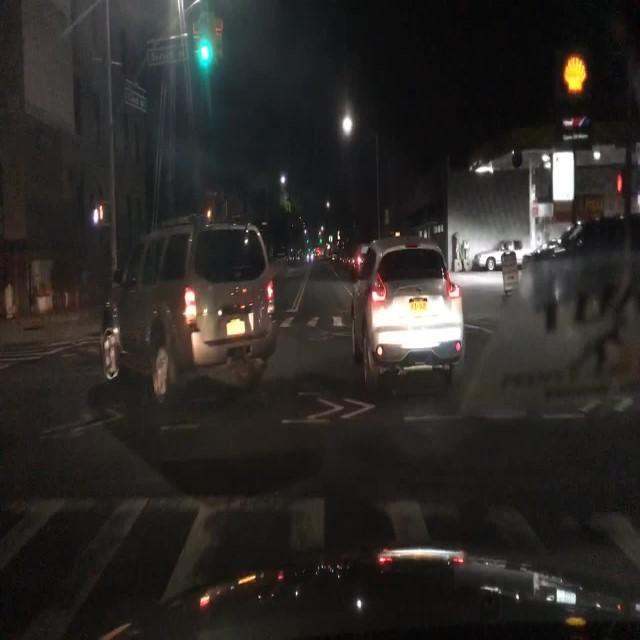normal: (82, 180, 489, 431)
